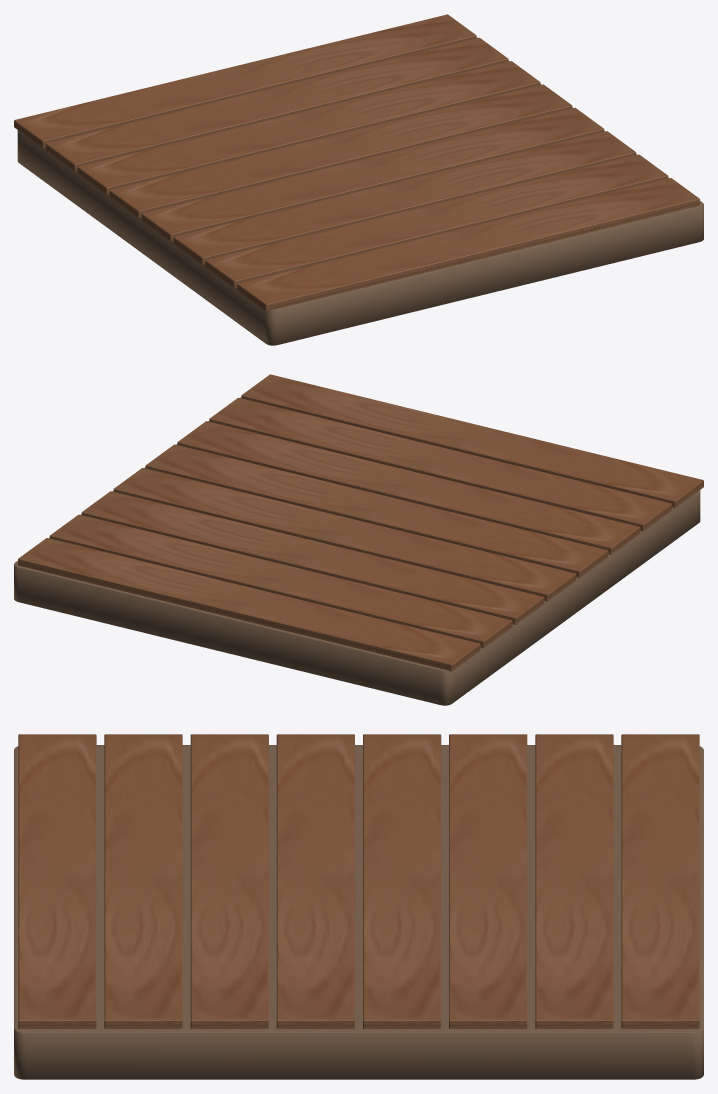
File: floor-wood.gltf
The picture shows the model from 3 angles, top to bottom: view 1: azimuth 30°, elevation 25°; view 2: azimuth 150°, elevation 25°; view 3: azimuth 270°, elevation 25°; orthographic projection. The views are drawn at different scales.
Visible parts, largest first — view 1: roomFloor.002, roomFloor; view 2: roomFloor.002, roomFloor; view 3: roomFloor.002, roomFloor.
Boxes of the visible parts, left/top/right/bottom form: roomFloor.002: left=14, top=14, right=699, bottom=311; roomFloor: left=17, top=37, right=703, bottom=345; roomFloor.002: left=18, top=374, right=703, bottom=671; roomFloor: left=14, top=397, right=700, bottom=705; roomFloor.002: left=18, top=734, right=699, bottom=1028; roomFloor: left=14, top=745, right=703, bottom=1079.
Size of the model in its own units: 1.84 by 0.1695 by 1.86.
2 materials, 1 textured.
